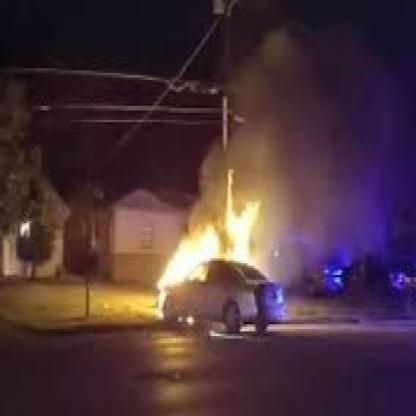fire: (158, 200, 263, 296)
smoke: (228, 41, 407, 267)
